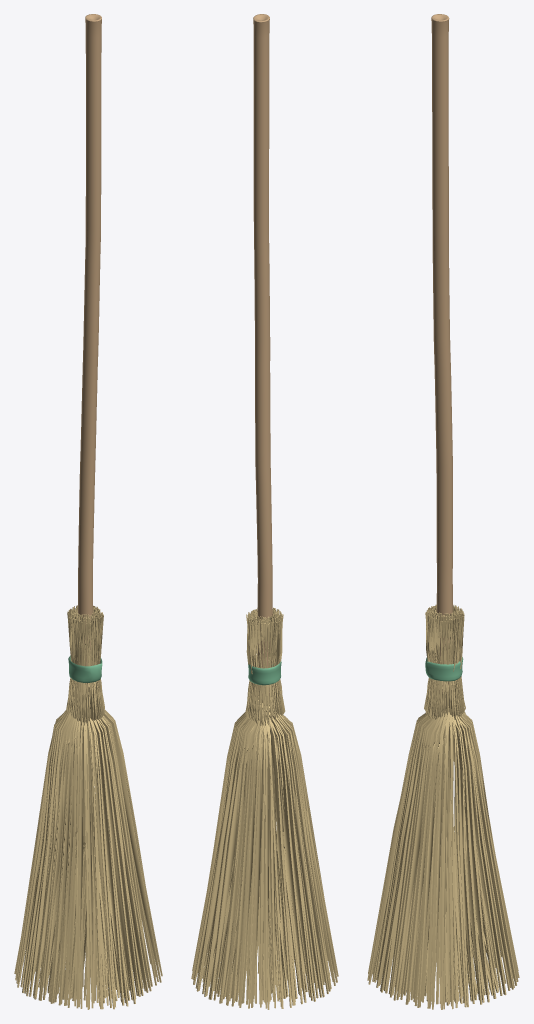
Rendered from Broom.fbx.
The picture shows the model from 3 angles, left to right: view 1: azimuth 30°, elevation 25°; view 2: azimuth 150°, elevation 25°; view 3: azimuth 270°, elevation 25°; orthographic projection.
Visible parts, largest first — view 1: SATOMI WITCH BROOM; view 2: SATOMI WITCH BROOM; view 3: SATOMI WITCH BROOM.
Boxes of the visible parts, box(x1,y1,x2,y2) form: SATOMI WITCH BROOM: box(14, 14, 162, 1009); SATOMI WITCH BROOM: box(191, 14, 338, 1009); SATOMI WITCH BROOM: box(367, 14, 519, 1009).
Size of the model in its own units: 22.12 by 160 by 22.63.
